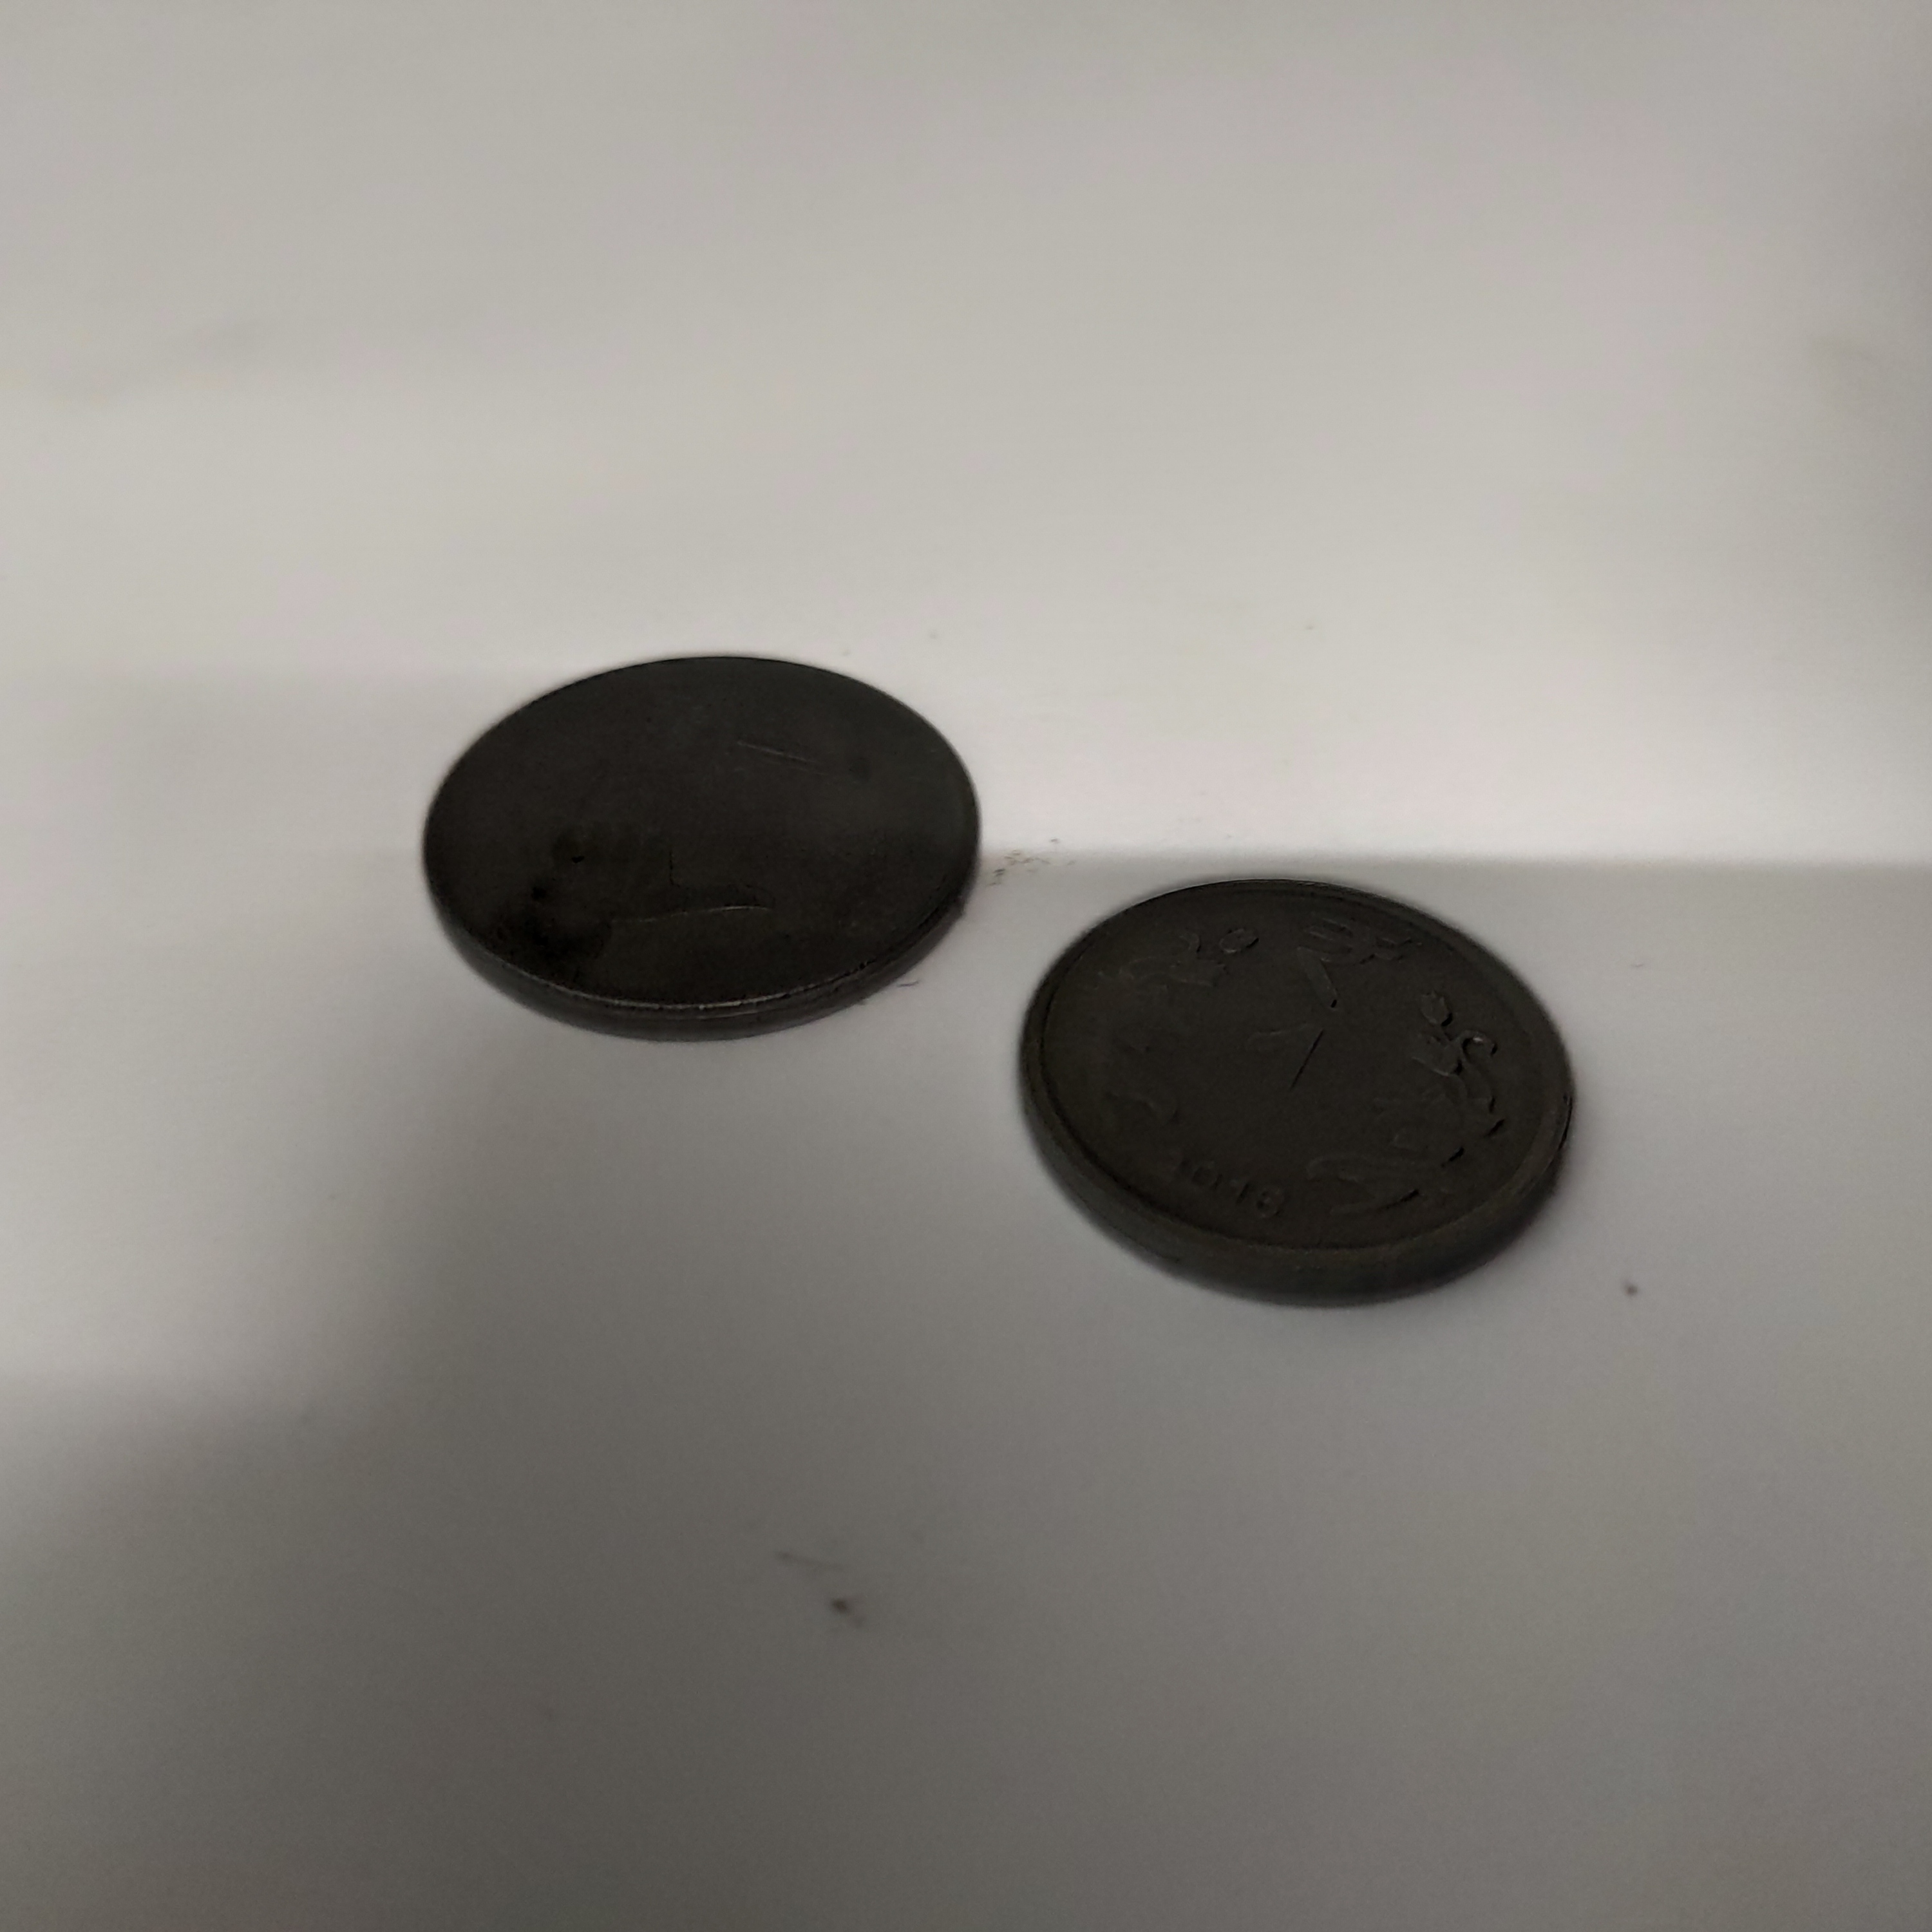coin: (1002, 857, 1625, 1323), (368, 652, 981, 1048)
